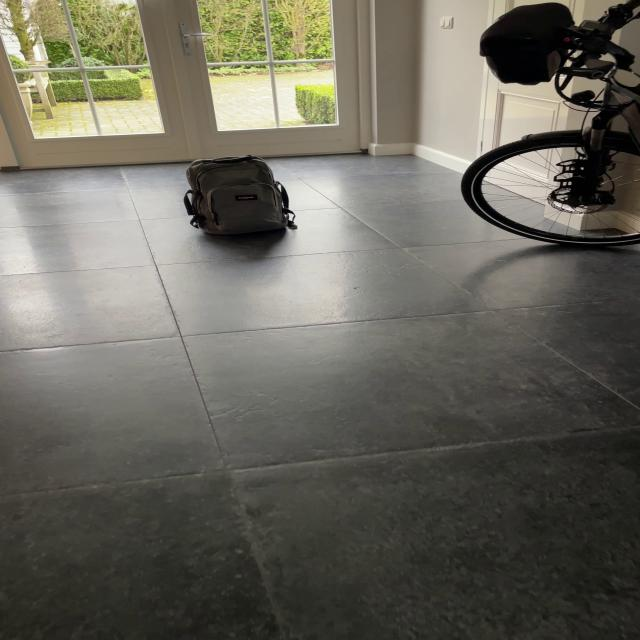backpack: (178, 152, 295, 238)
